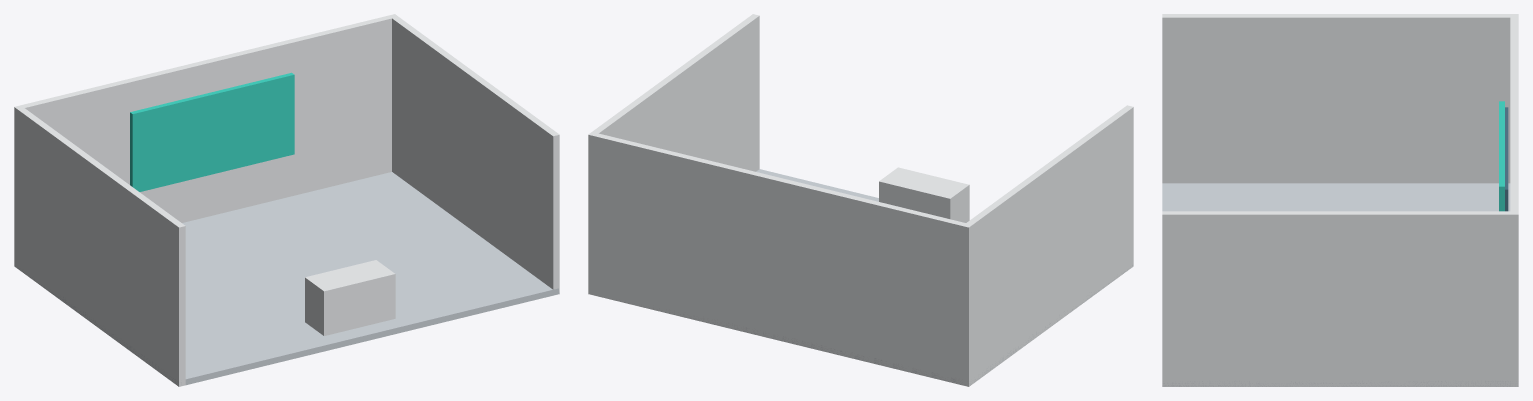
3 views of the same model, side by side, from view 1: azimuth 30°, elevation 25°; view 2: azimuth 150°, elevation 25°; view 3: azimuth 270°, elevation 25° (orthographic). The views are drawn at different scales.
Visible parts, largest first — view 1: Exhibition Booth Concept; view 2: Exhibition Booth Concept; view 3: Exhibition Booth Concept.
Part boxes in pixels (x1,y1,x2,y2): Exhibition Booth Concept: (14, 14, 559, 386); Exhibition Booth Concept: (588, 14, 1133, 386); Exhibition Booth Concept: (1162, 14, 1518, 386).
Bounding box in the file's own units: 8 × 3.2 × 6.
